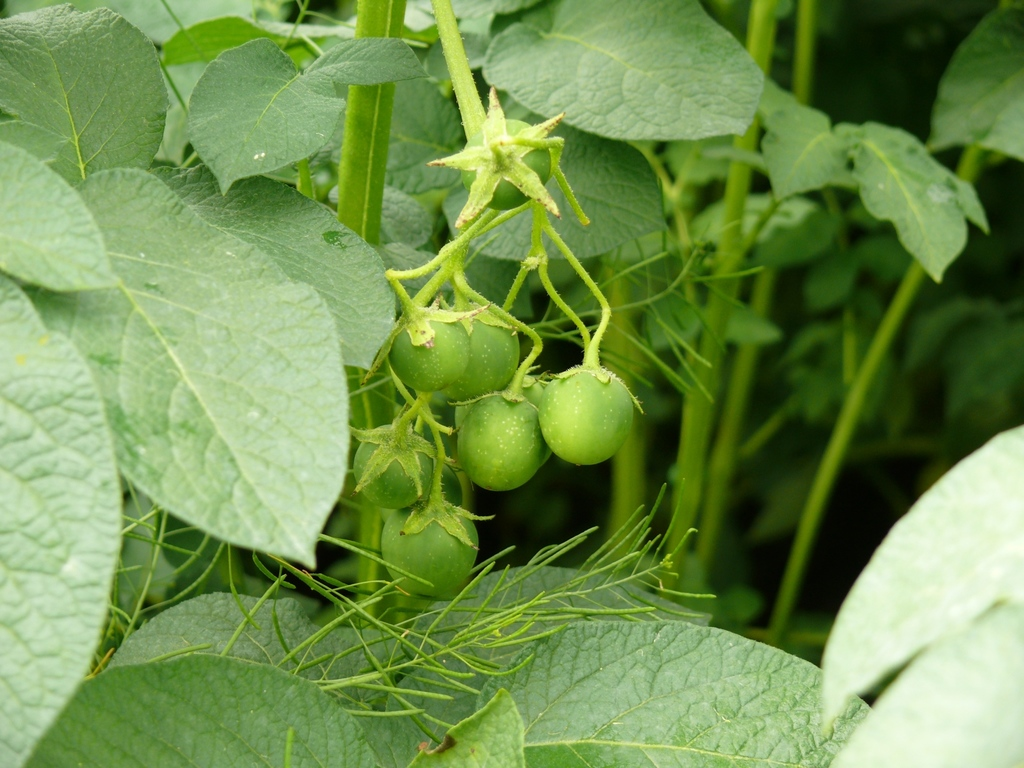Tomato: (539, 357, 645, 464), (455, 388, 548, 483), (385, 495, 471, 590), (351, 421, 433, 503), (392, 317, 471, 387)
